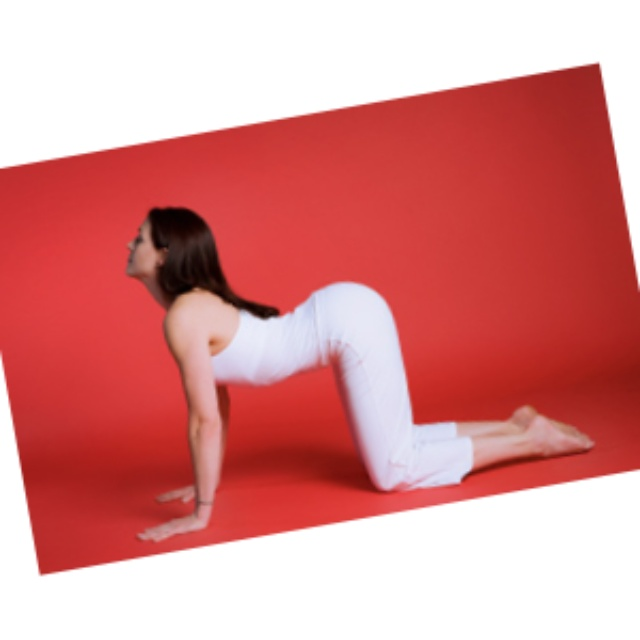Cow_Pose: (122, 206, 595, 543)
